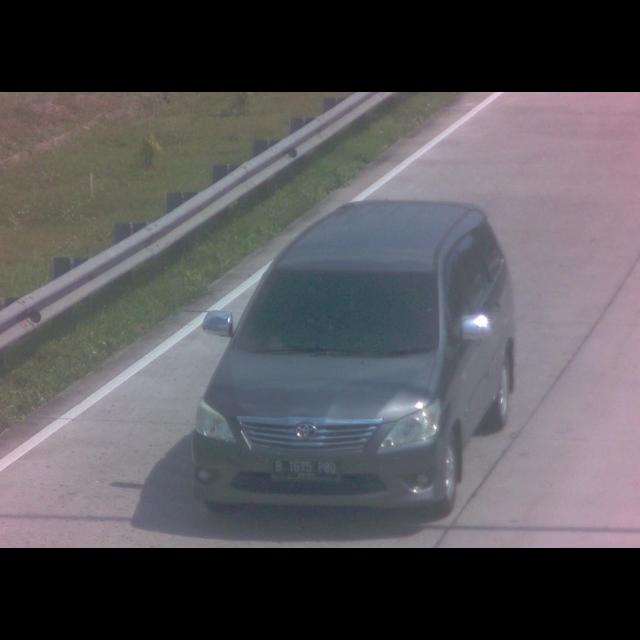plate: (268, 456, 341, 481)
